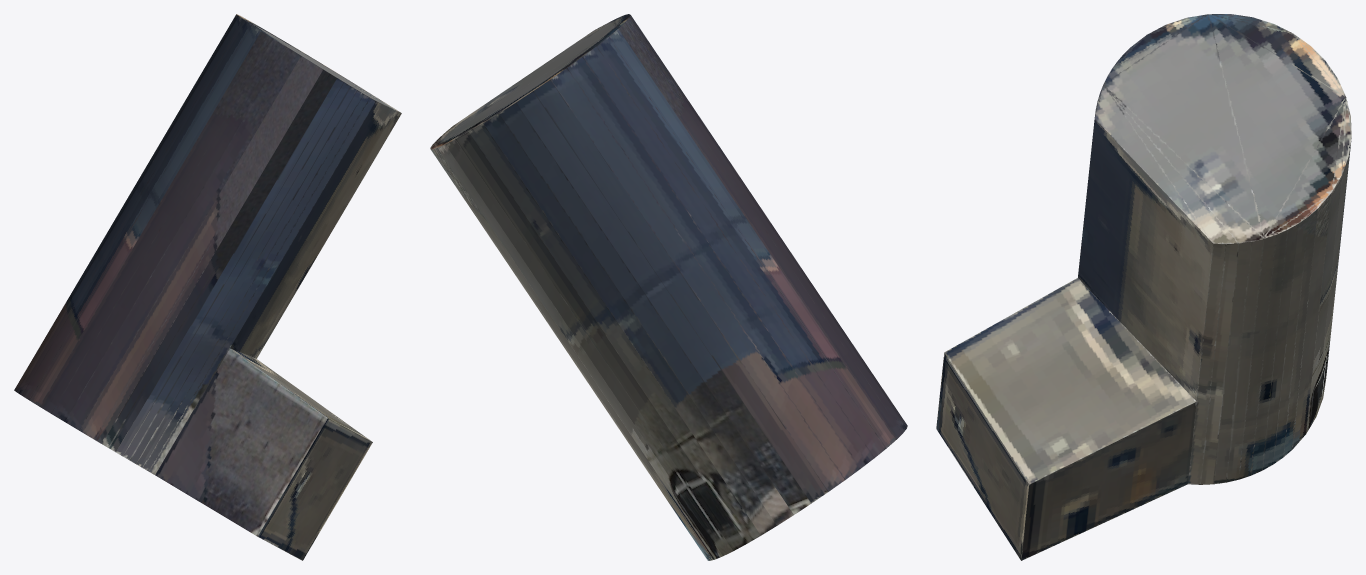
3 renders of one model, left to right at view 1: azimuth 30°, elevation 25°; view 2: azimuth 150°, elevation 25°; view 3: azimuth 270°, elevation 25°, orthographic. The views are drawn at different scales.
Visible parts, largest first — view 1: BAG_0599100000656913 (×6); view 2: BAG_0599100000656913 (×6); view 3: BAG_0599100000656913 (×7).
Part boxes in pixels (x1,y1,x2,y2): BAG_0599100000656913 (×6): (14,14,401,560); BAG_0599100000656913 (×6): (430,14,907,560); BAG_0599100000656913 (×7): (936,14,1351,560).
Bounding box in the file's own units: 16.68 × 19.73 × 13.08.
1 material, 1 textured.
